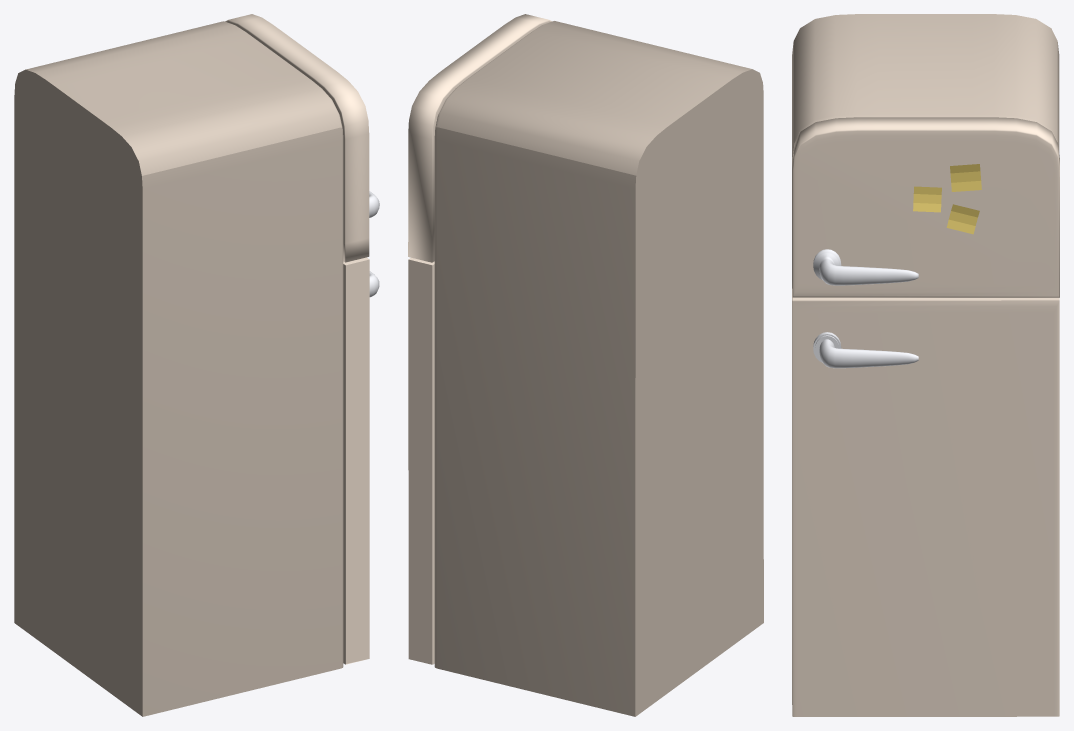
Rendered from fridge 1.fbx.
3 views of the same model, side by side, from view 1: azimuth 30°, elevation 25°; view 2: azimuth 150°, elevation 25°; view 3: azimuth 270°, elevation 25° (orthographic). The views are drawn at different scales.
Visible parts, largest first — view 1: Fridge, Door_lower, Door_upper; view 2: Fridge, Door_lower, Door_upper; view 3: Door_lower, Door_upper, Fridge.
Part boxes in pixels (x1=…): Fridge: x1=14, y1=21, x2=343, y2=716; Door_lower: x1=343, y1=257, x2=379, y2=664; Door_upper: x1=225, y1=14, x2=379, y2=262; Fridge: x1=434, y1=21, x2=763, y2=716; Door_lower: x1=408, y1=257, x2=434, y2=664; Door_upper: x1=408, y1=14, x2=551, y2=262; Door_lower: x1=792, y1=289, x2=1059, y2=716; Door_upper: x1=792, y1=117, x2=1059, y2=297; Fridge: x1=792, y1=14, x2=1059, y2=704.
Bounding box in the file's own units: 0.8273 × 1.75 × 0.7202.
